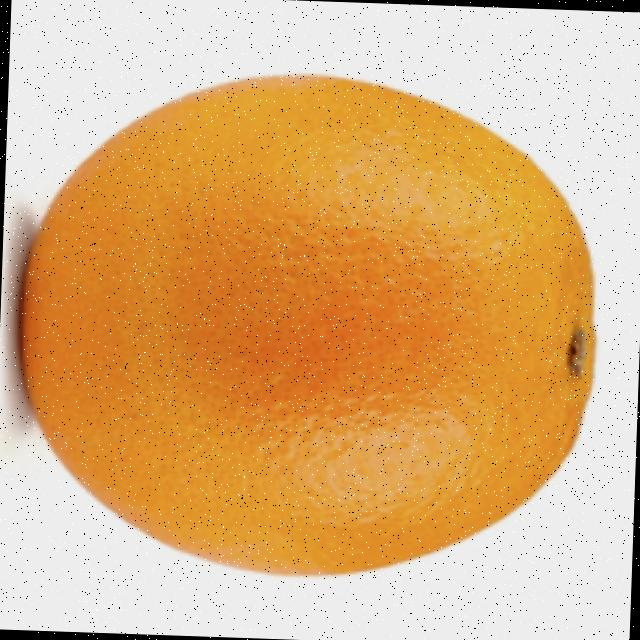orange: (9, 58, 608, 588)
